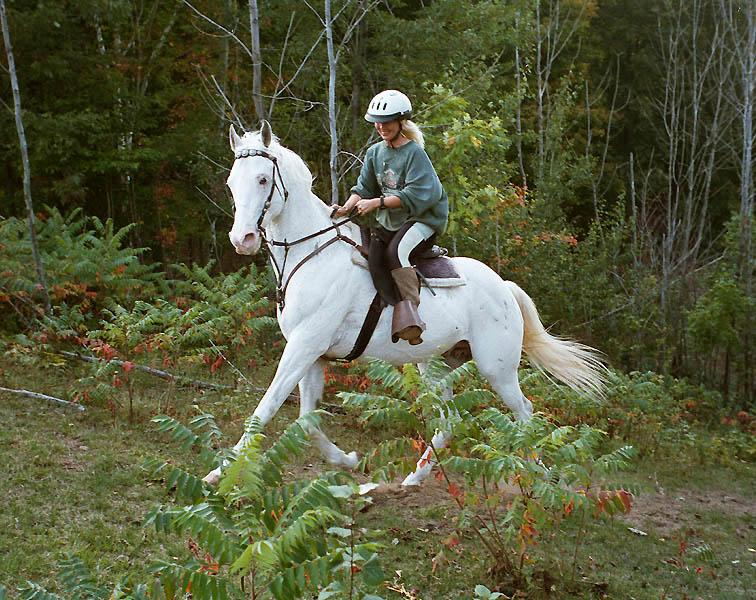person: (331, 84, 456, 336)
